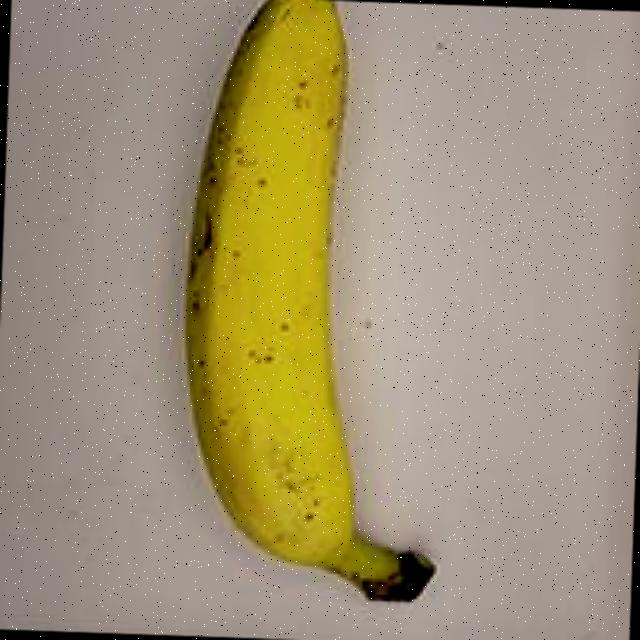Ripe: (150, 0, 500, 619)
